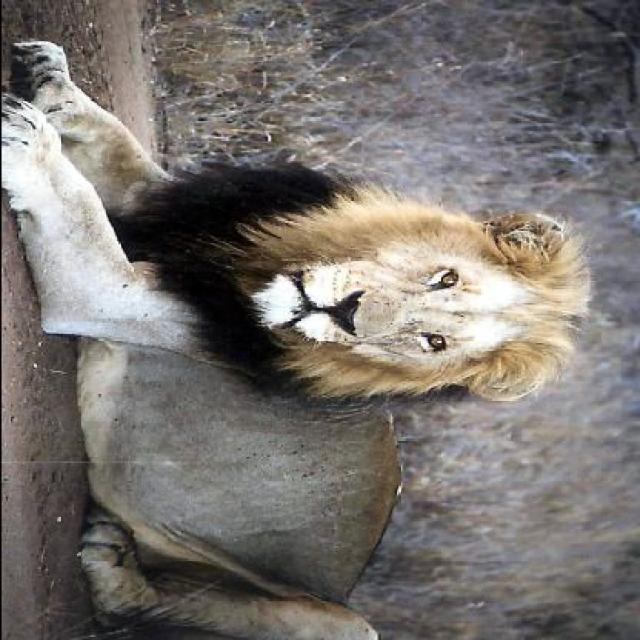Lion: (2, 3, 604, 637)
